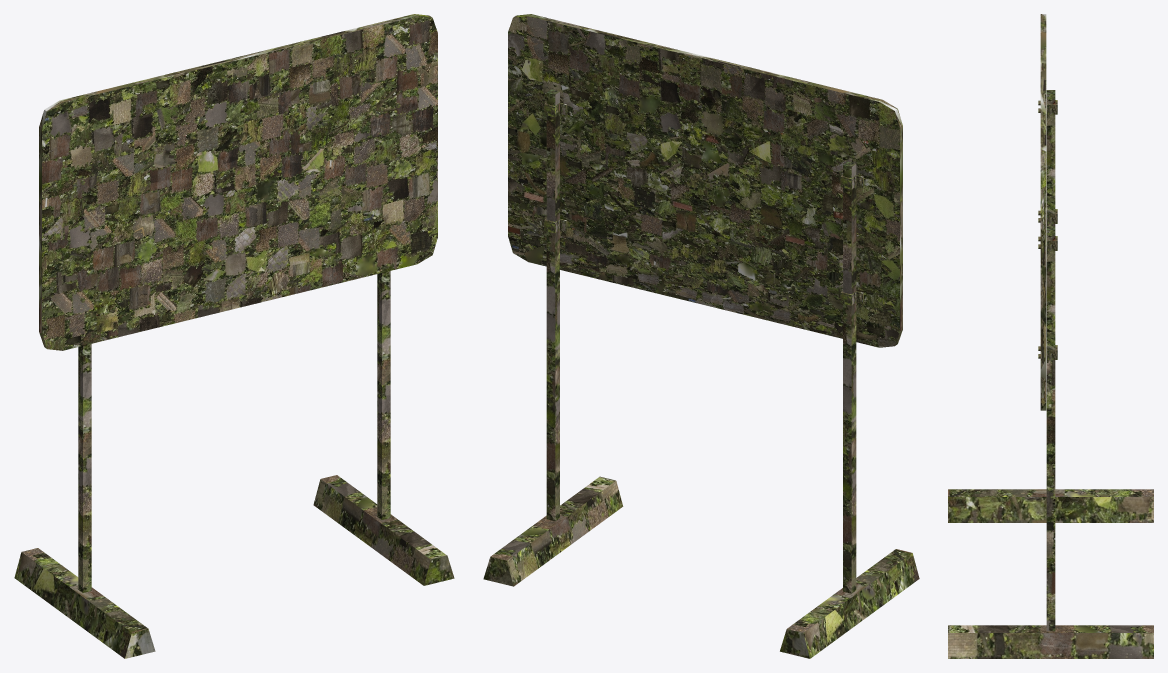
Rendered from Sign.fbx.
3 renders of one model, left to right at view 1: azimuth 30°, elevation 25°; view 2: azimuth 150°, elevation 25°; view 3: azimuth 270°, elevation 25°, orthographic. The views are drawn at different scales.
Parts seen in each view (by area): view 1: Object_2; view 2: Object_2; view 3: Object_2.
Boxes of the visible parts, left/top/right/bottom form: Object_2: left=14, top=14, right=454, bottom=658; Object_2: left=483, top=14, right=919, bottom=658; Object_2: left=948, top=14, right=1153, bottom=658.
Size of the model in its own units: 15881 by 20052 by 7680.
